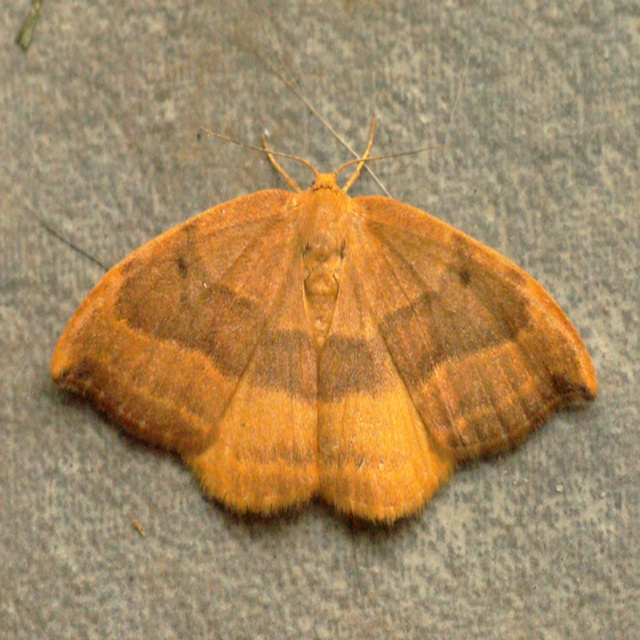Butterfly: (75, 113, 590, 562)
